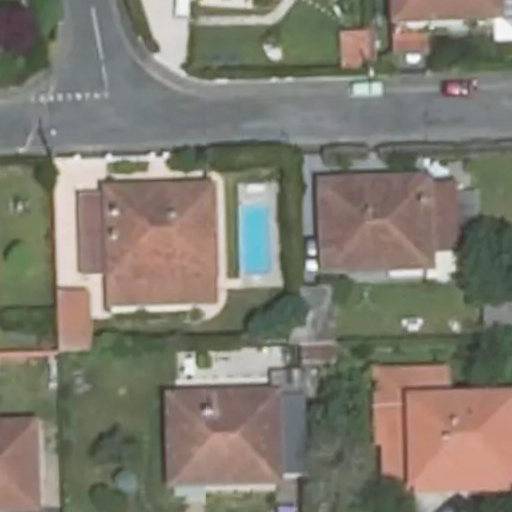pool: (239, 208, 271, 275)
